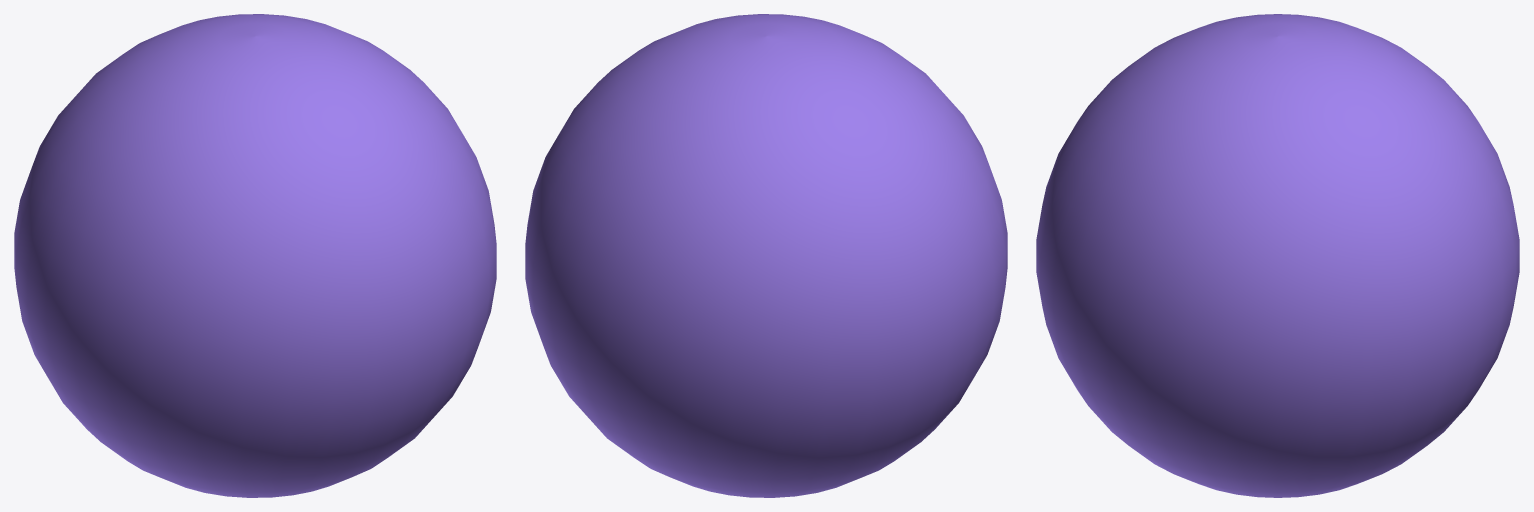
3 renders of one model, left to right at view 1: azimuth 30°, elevation 25°; view 2: azimuth 150°, elevation 25°; view 3: azimuth 270°, elevation 25°, orthographic.
Parts seen in each view (by area): view 1: 曲面球; view 2: 曲面球; view 3: 曲面球.
Part boxes in pixels (x1,y1,x2,y2): 曲面球: [14, 14, 496, 497]; 曲面球: [525, 14, 1007, 497]; 曲面球: [1036, 14, 1519, 497].
Bounding box in the file's own units: 1.99 × 2 × 1.99.
